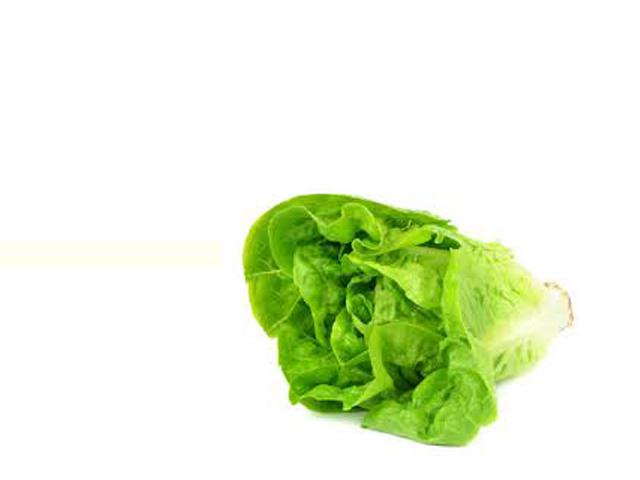lettuce: (241, 185, 583, 464)
